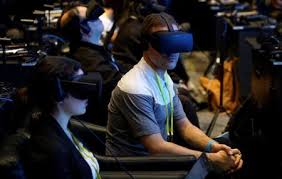oculus: (68, 67, 104, 101), (150, 27, 195, 53)
